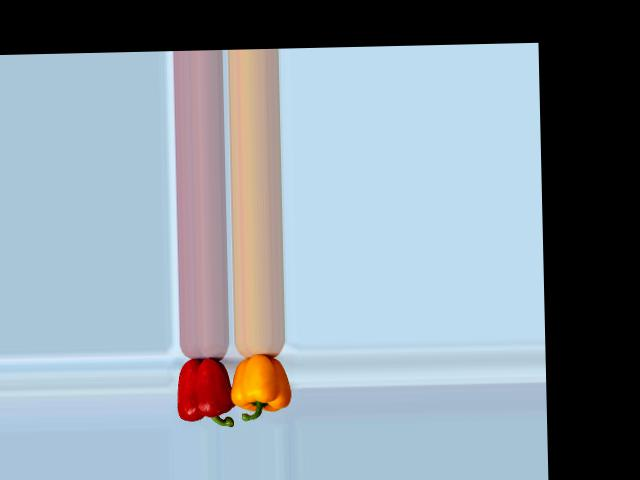bell_pepper: (170, 350, 236, 426)
